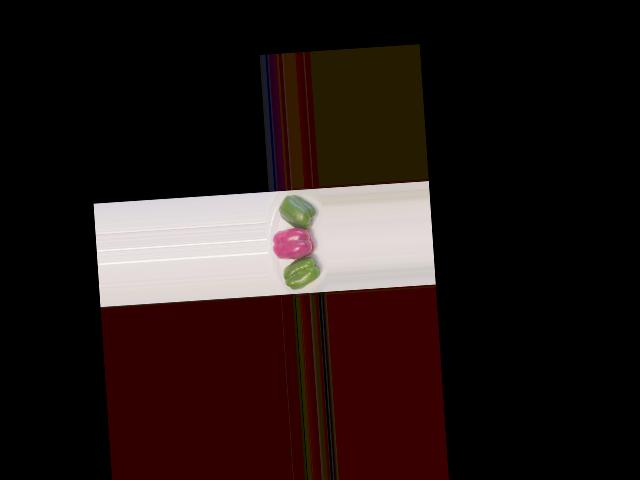bell_pepper: (273, 191, 320, 231)
